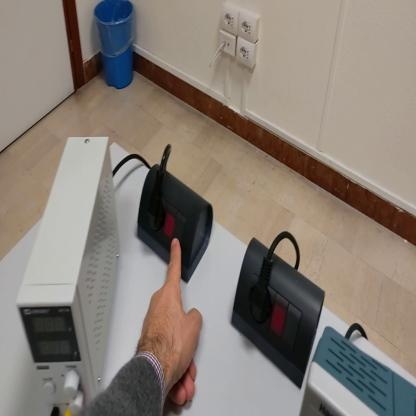hand: (136, 238, 203, 404)
oscilloscope: (301, 327, 415, 415)
power supply: (18, 123, 123, 415)
socket: (230, 230, 327, 389), (140, 163, 216, 283)
